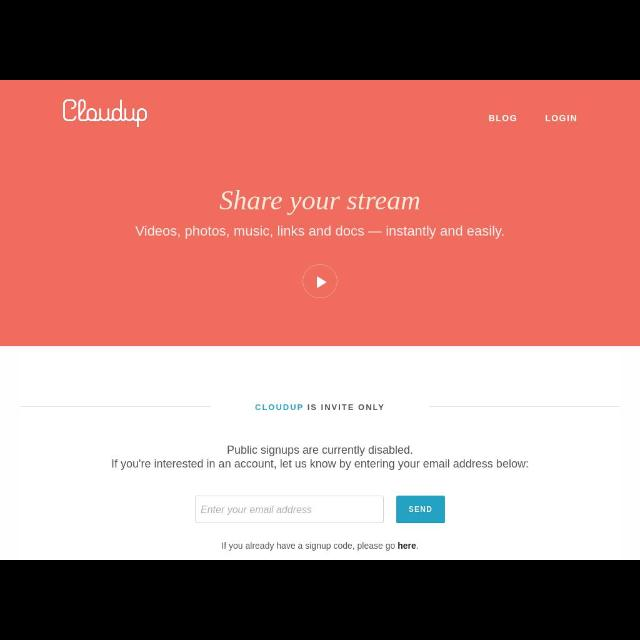button: (302, 264, 338, 300)
icon: (314, 275, 326, 289)
image: (62, 100, 148, 128)
input: (193, 496, 384, 524)
text: (220, 188, 420, 214), (112, 458, 530, 470), (134, 226, 503, 238), (226, 442, 414, 456), (222, 540, 420, 552), (255, 402, 385, 414), (200, 504, 314, 516), (544, 114, 576, 125), (488, 112, 514, 124)
textbutton: (396, 494, 446, 524)
